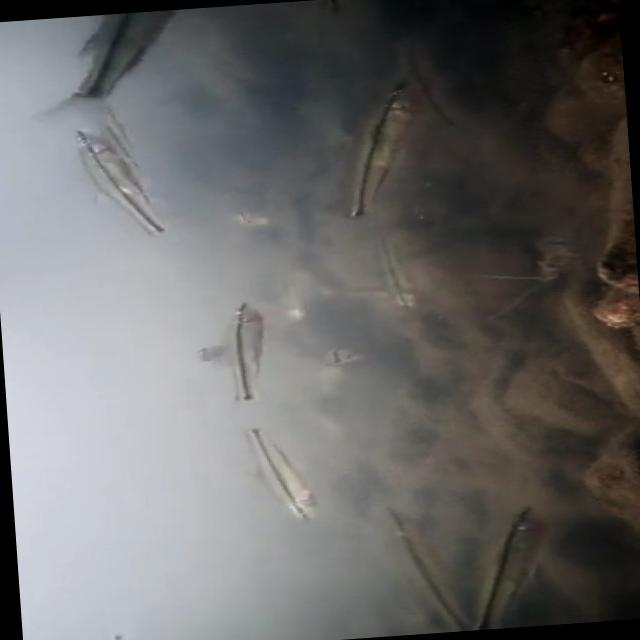Cakil Baligi: (331, 81, 433, 223), (59, 120, 173, 246), (238, 422, 327, 527), (212, 300, 276, 408)
